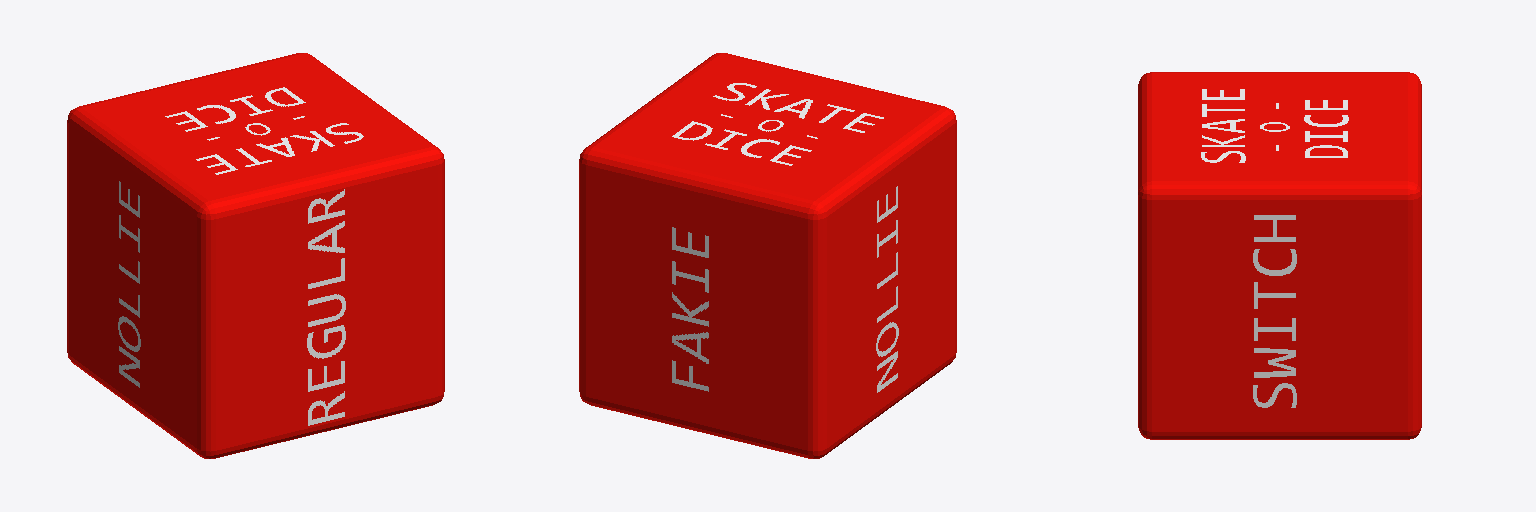
3 views of the same model, side by side, from view 1: azimuth 30°, elevation 25°; view 2: azimuth 150°, elevation 25°; view 3: azimuth 270°, elevation 25° (orthographic).
Visible parts, largest first — view 1: Cube; view 2: Cube; view 3: Cube.
Boxes of the visible parts, <box> form: Cube: <box>67,53,444,458</box>; Cube: <box>579,53,956,458</box>; Cube: <box>1138,72,1421,439</box>.
Bounding box in the file's own units: 2 × 2 × 2.
1 materials, 1 textured.